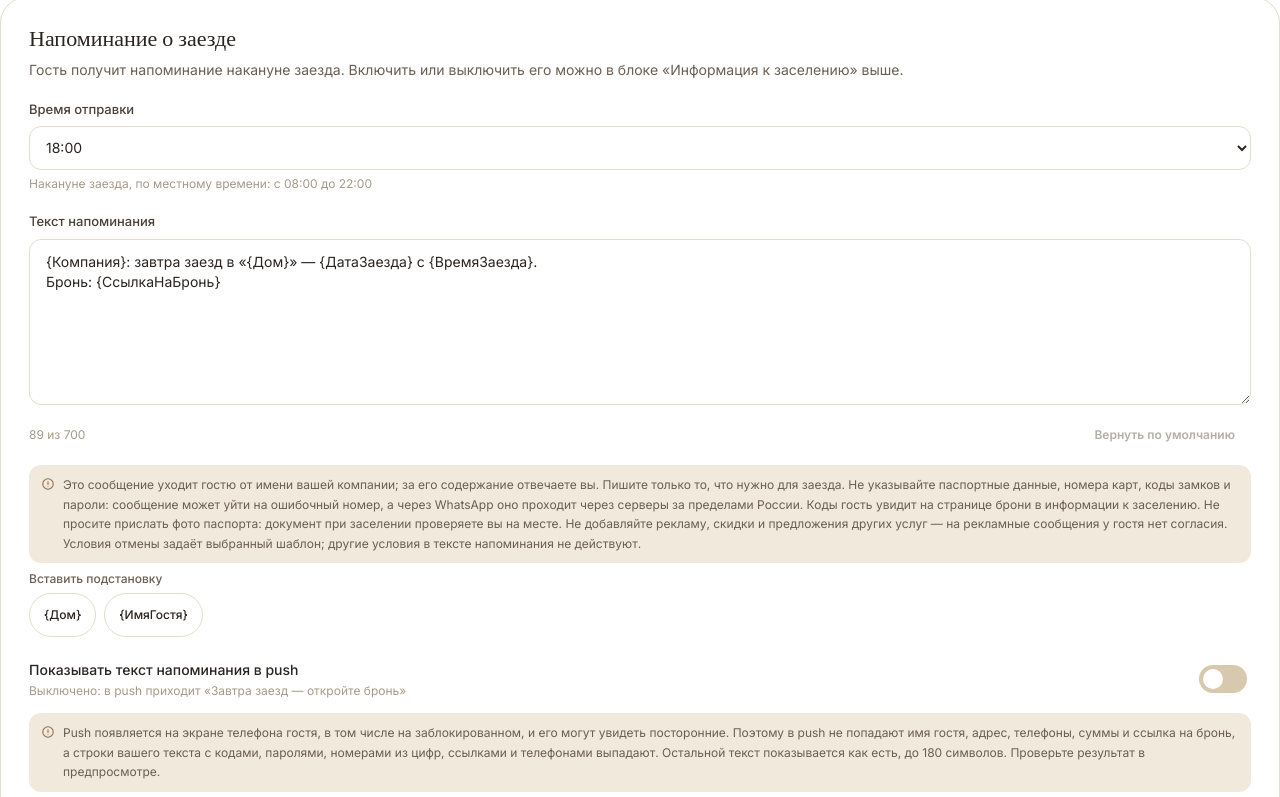
Scenario: ArrivalReminderCard › signs of an access code open a dialog; «Сохранить всё равно» repeats the save with the confirmation (ЮР39-4)
Replace the text in the text box labelled "Текст напоминания" with "Код калитки 4512" at x=640, y=322, box [29,239,1251,405]
(page scrolled)
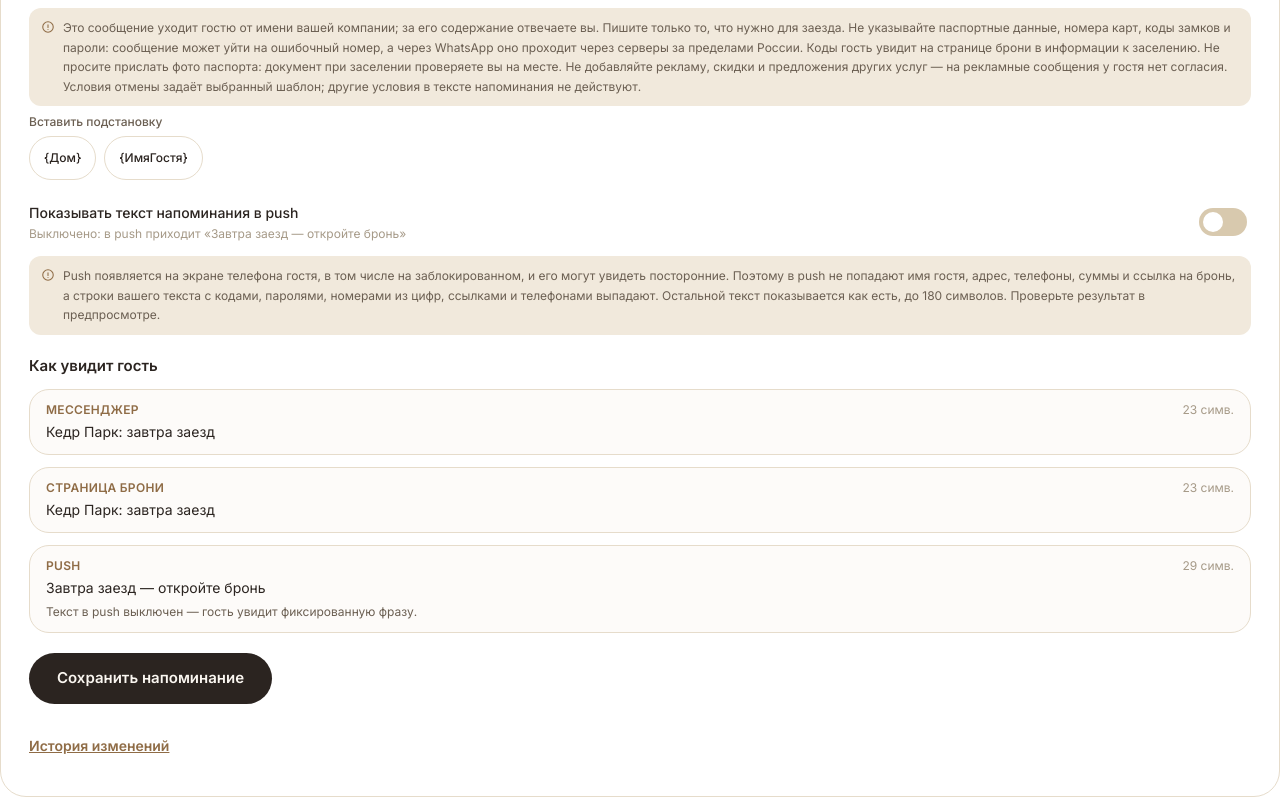
Click the button "Сохранить напоминание".
click(150, 679)  # box [29,653,272,704]
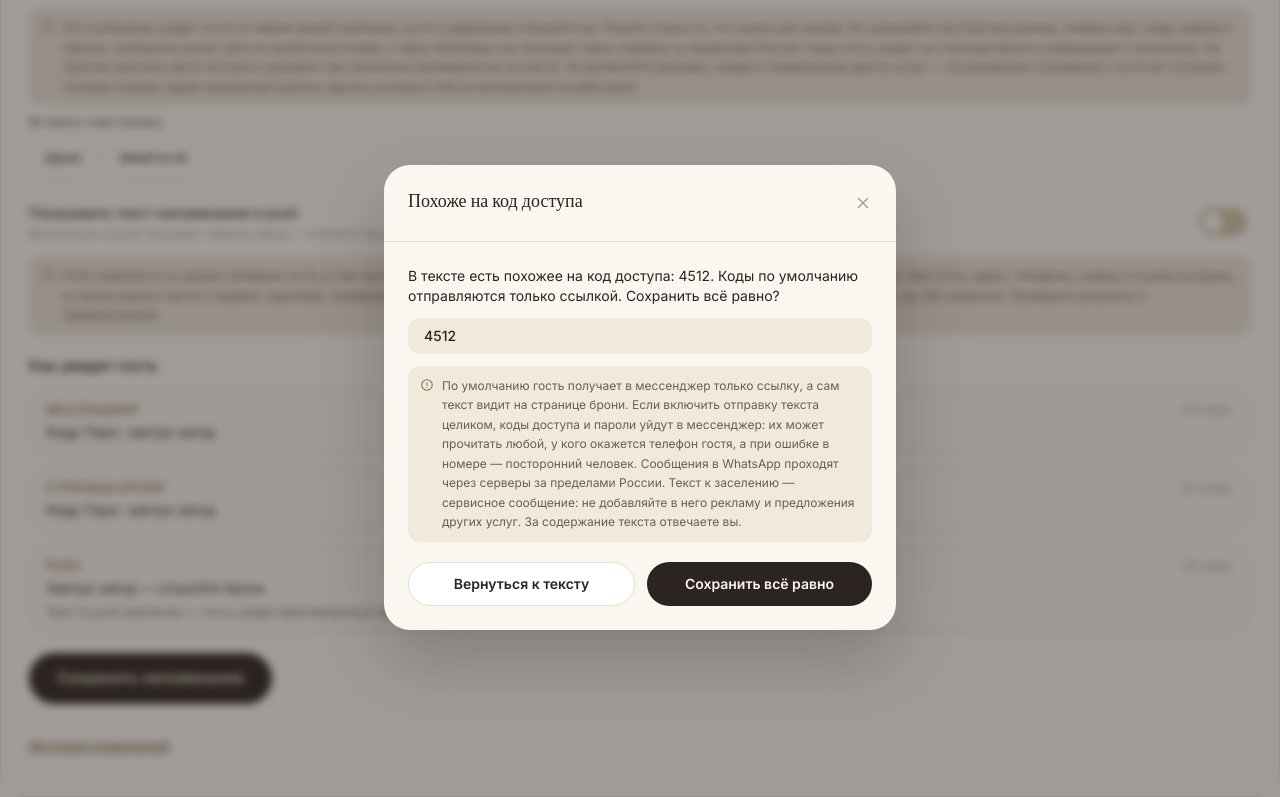
Expected: the element with test id "markers-dialog" shows "похожее на код доступа", [408,266,858,304]
Expected: the element with test id "markers-dialog" shows "4512", [424,326,456,344]
Click the button "Сохранить всё равно".
click(760, 584)  # box [647,562,872,606]
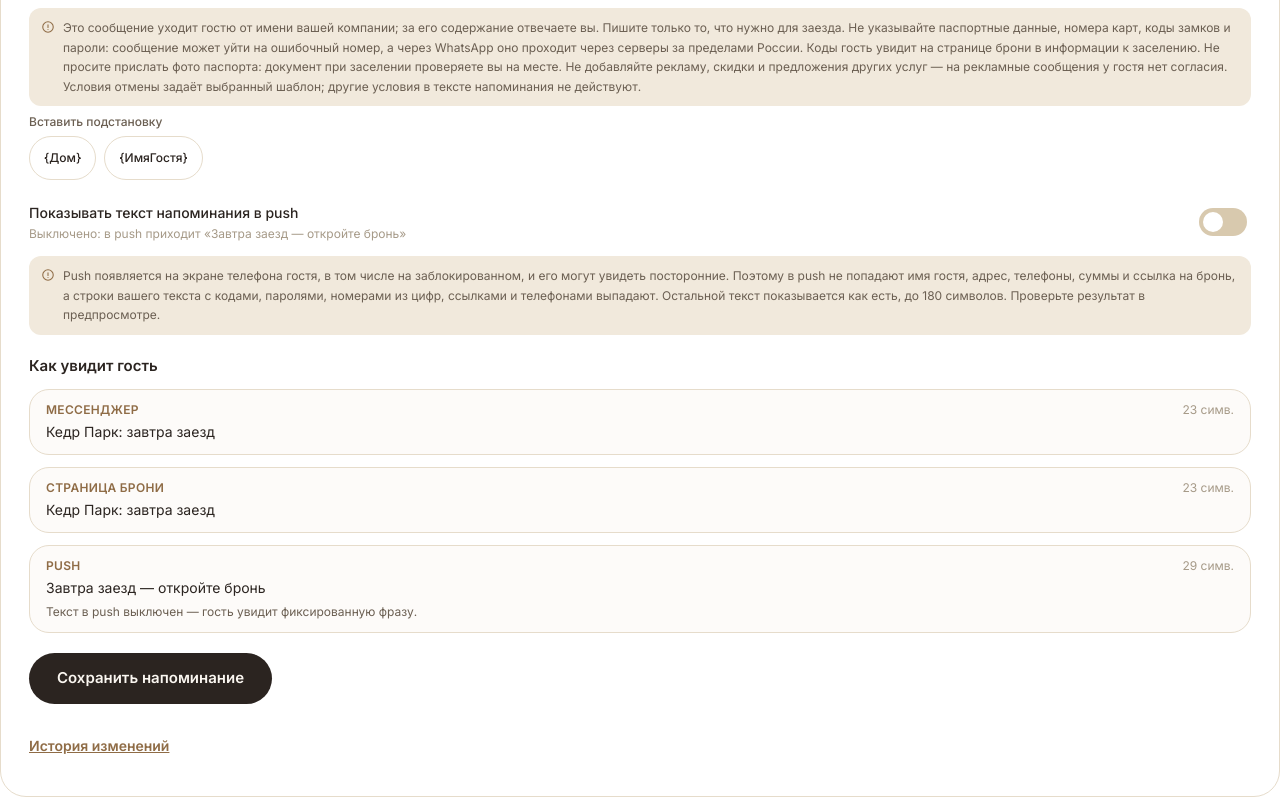
Expected: the element with test id "markers-dialog" is gone
